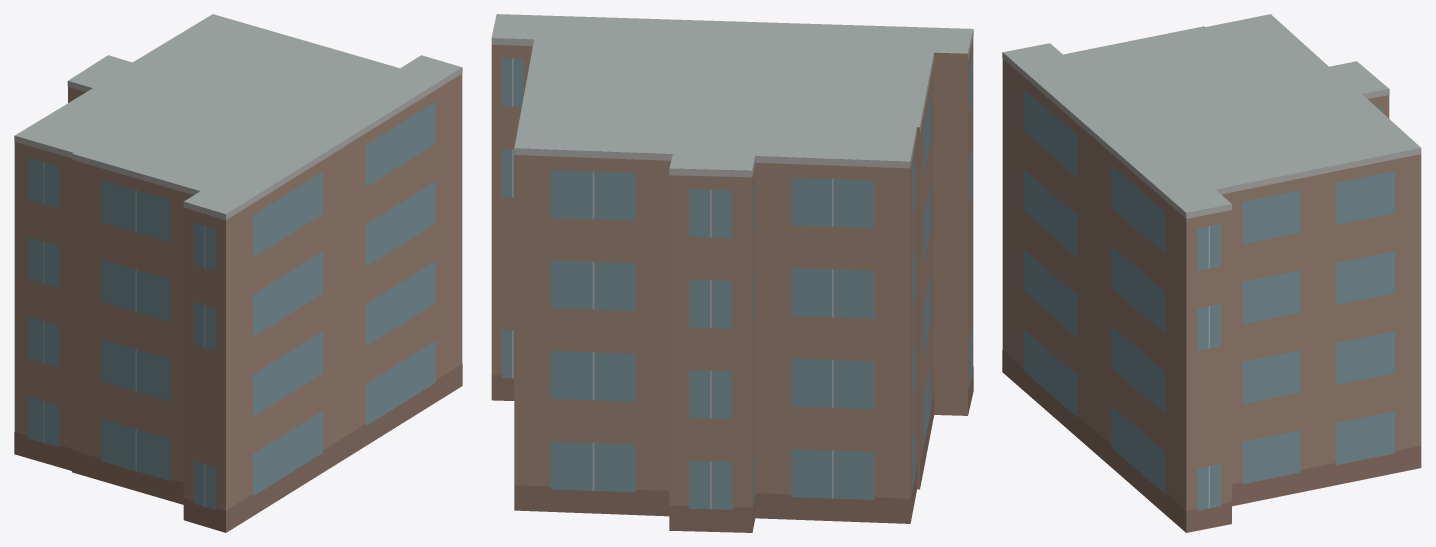
The model's file is survey-upis-32744171.glb.
The picture shows the model from 3 angles, left to right: view 1: azimuth 30°, elevation 25°; view 2: azimuth 150°, elevation 25°; view 3: azimuth 270°, elevation 25°; orthographic projection. The views are drawn at different scales.
Parts seen in each view (by area): view 1: survey-upis-32744171.tmp; view 2: survey-upis-32744171.tmp; view 3: survey-upis-32744171.tmp.
Part boxes in pixels (x1,y1,x2,y2): survey-upis-32744171.tmp: [14, 14, 462, 532]; survey-upis-32744171.tmp: [491, 14, 973, 532]; survey-upis-32744171.tmp: [1002, 14, 1421, 532].
Bounding box in the file's own units: 17.34 × 13 × 15.43.
